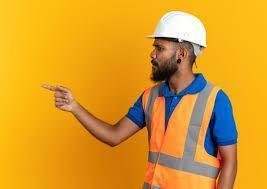helmet: (145, 9, 207, 48)
